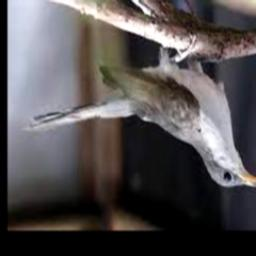Cuckoo: (22, 36, 256, 188)
